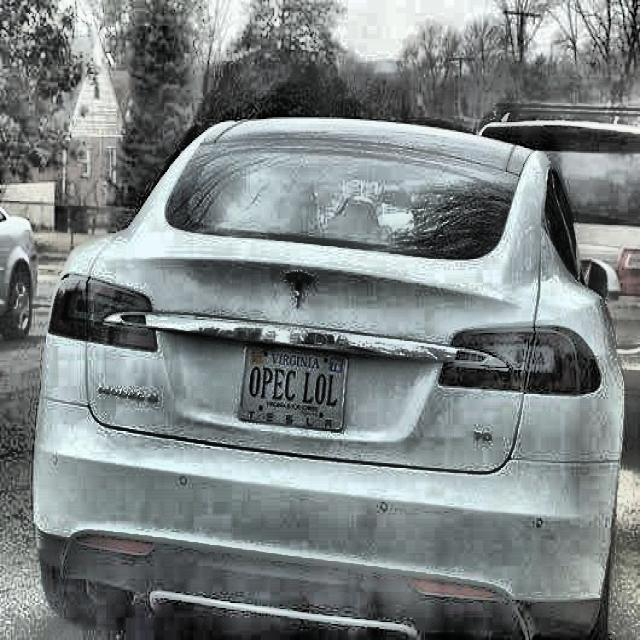license_plate: (243, 340, 348, 432)
